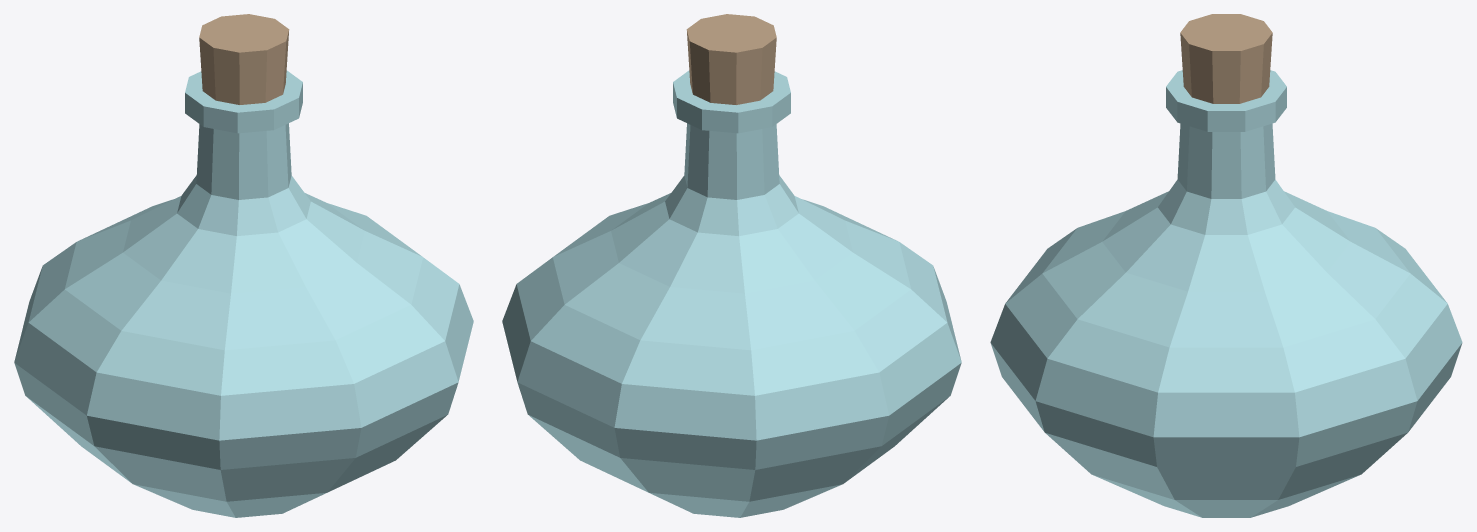
File: Bottle_03.fbx
The picture shows the model from 3 angles, left to right: view 1: azimuth 30°, elevation 25°; view 2: azimuth 150°, elevation 25°; view 3: azimuth 270°, elevation 25°; orthographic projection.
Parts seen in each view (by area): view 1: Bottle_03; view 2: Bottle_03; view 3: Bottle_03.
Boxes of the visible parts, x1=… form: Bottle_03: x1=14, y1=14, x2=473, y2=517; Bottle_03: x1=502, y1=14, x2=961, y2=517; Bottle_03: x1=990, y1=14, x2=1462, y2=517.
Size of the model in its own units: 4.93 by 5.5 by 5.18.
